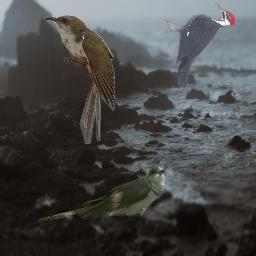Cuckoo: (44, 14, 115, 144), (38, 165, 165, 223)
Woodpecker: (163, 3, 237, 89)
